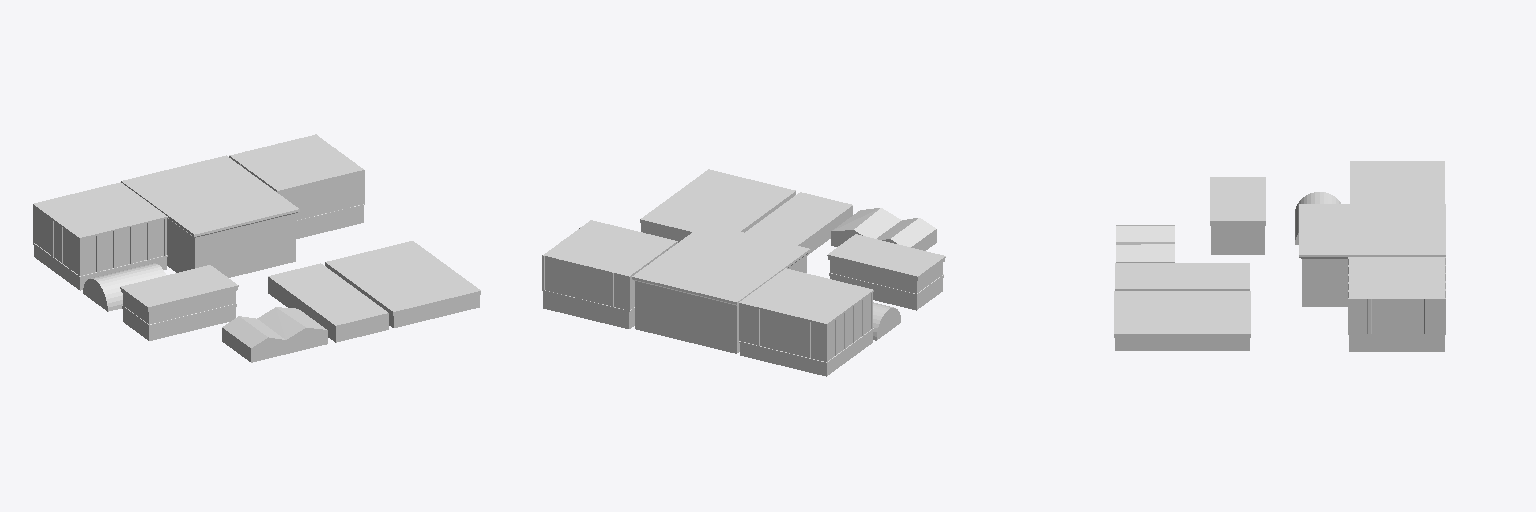
3 views of the same model, side by side, from view 1: azimuth 30°, elevation 25°; view 2: azimuth 150°, elevation 25°; view 3: azimuth 270°, elevation 25° (orthographic).
Visible parts, largest first — view 1: WAREHOUSE_BLOCK.1; view 2: WAREHOUSE_BLOCK.1; view 3: WAREHOUSE_BLOCK.1.
Boxes of the visible parts, x1,y1,x2,y2 form: WAREHOUSE_BLOCK.1: [33, 134, 480, 362]; WAREHOUSE_BLOCK.1: [542, 169, 945, 376]; WAREHOUSE_BLOCK.1: [1114, 161, 1445, 351].
Size of the model in its own units: 1997 by 359 by 2006.